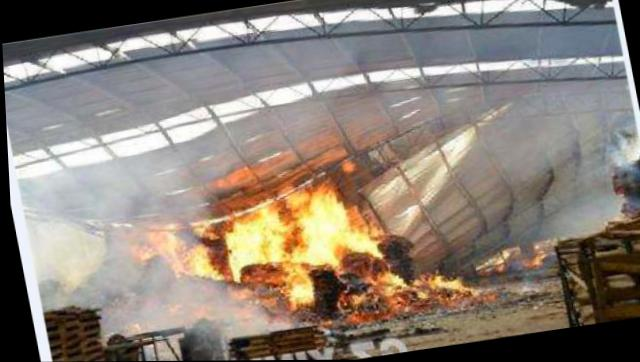fire: (285, 185, 353, 265), (219, 203, 295, 269), (346, 213, 379, 255), (284, 266, 315, 306), (186, 245, 215, 278), (376, 271, 405, 294), (421, 273, 459, 290)
smoke: (19, 145, 194, 336), (457, 60, 639, 241)
